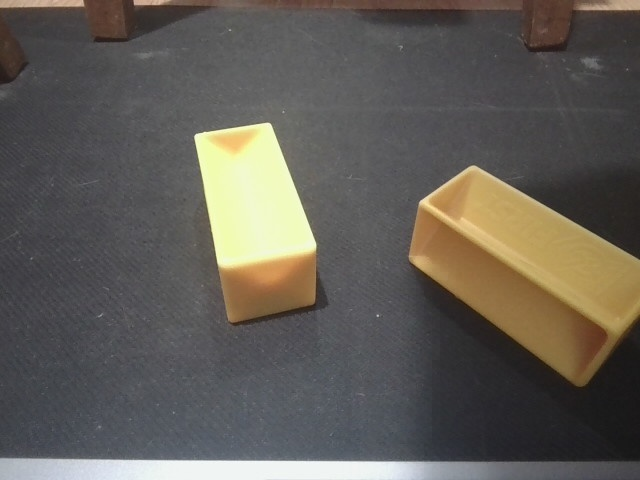YellowSample: (401, 161, 640, 391), (191, 118, 320, 324)
